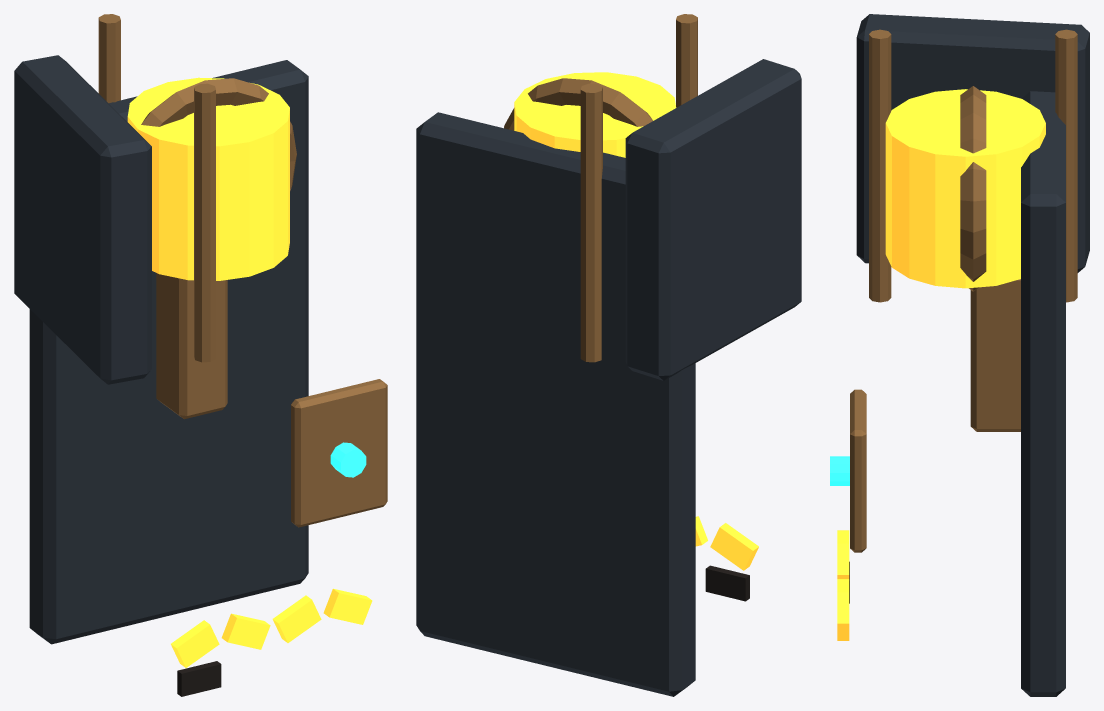
Rendered from runtime.glb.
3 renders of one model, left to right at view 1: azimuth 30°, elevation 25°; view 2: azimuth 150°, elevation 25°; view 3: azimuth 270°, elevation 25°, orthographic. The views are drawn at different scales.
Parts seen in each view (by area): view 1: kinetic-tide-warning-beacon-v05_steel_nocol, kinetic-tide-warning-beacon-v05_bronze_nocol, kinetic-tide-warning-beacon-v05_warningorange_nocol, kinetic-tide-warning-beacon-v05_weardark_nocol, kinetic-tide-warning-beacon-v05_cyansignal_nocol; view 2: kinetic-tide-warning-beacon-v05_steel_nocol, kinetic-tide-warning-beacon-v05_bronze_nocol, kinetic-tide-warning-beacon-v05_warningorange_nocol, kinetic-tide-warning-beacon-v05_weardark_nocol; view 3: kinetic-tide-warning-beacon-v05_steel_nocol, kinetic-tide-warning-beacon-v05_bronze_nocol, kinetic-tide-warning-beacon-v05_warningorange_nocol, kinetic-tide-warning-beacon-v05_cyansignal_nocol.
Part boxes in pixels (x1=…): kinetic-tide-warning-beacon-v05_steel_nocol: x1=14, y1=55, x2=308, y2=644; kinetic-tide-warning-beacon-v05_bronze_nocol: x1=98, y1=14, x2=387, y2=527; kinetic-tide-warning-beacon-v05_warningorange_nocol: x1=127, y1=77, x2=372, y2=667; kinetic-tide-warning-beacon-v05_weardark_nocol: x1=177, y1=661, x2=221, y2=696; kinetic-tide-warning-beacon-v05_cyansignal_nocol: x1=330, y1=442, x2=366, y2=477; kinetic-tide-warning-beacon-v05_steel_nocol: x1=416, y1=59, x2=801, y2=696; kinetic-tide-warning-beacon-v05_bronze_nocol: x1=504, y1=14, x2=697, y2=362; kinetic-tide-warning-beacon-v05_warningorange_nocol: x1=514, y1=72, x2=758, y2=570; kinetic-tide-warning-beacon-v05_weardark_nocol: x1=705, y1=565, x2=749, y2=601; kinetic-tide-warning-beacon-v05_steel_nocol: x1=856, y1=14, x2=1089, y2=696; kinetic-tide-warning-beacon-v05_bronze_nocol: x1=850, y1=29, x2=1077, y2=552; kinetic-tide-warning-beacon-v05_warningorange_nocol: x1=837, y1=89, x2=1045, y2=640; kinetic-tide-warning-beacon-v05_cyansignal_nocol: x1=830, y1=456, x2=849, y2=485.
Bounding box in the file's own units: 1.38 × 2.69 × 1.09.
